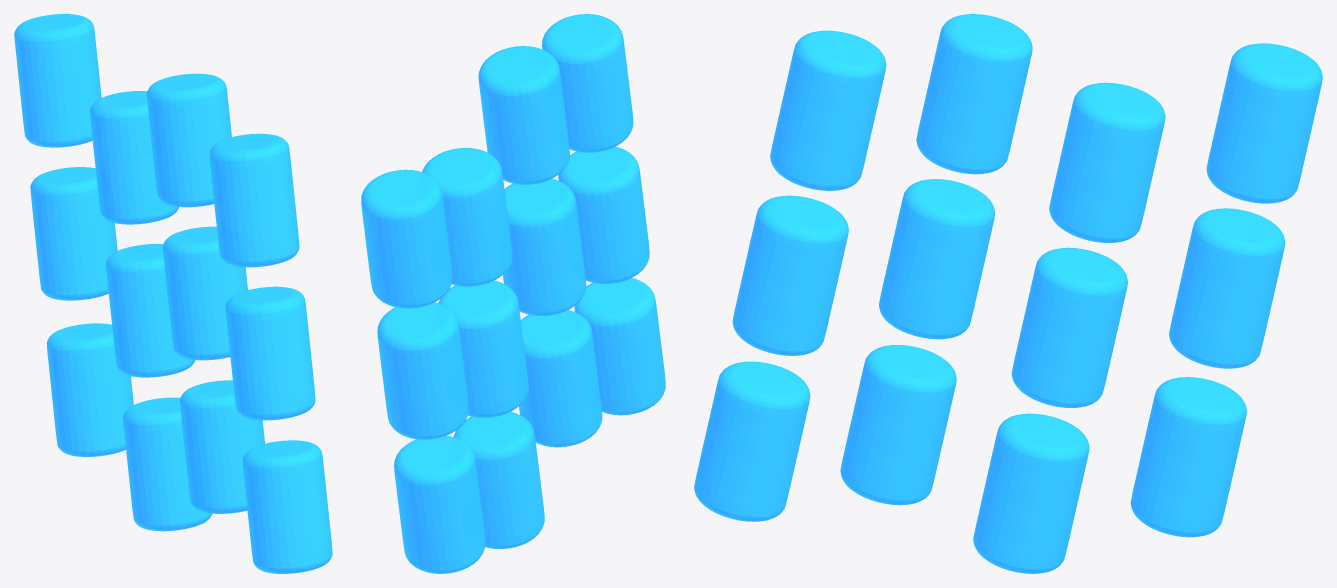
Rendered from rain.gltf.
3 views of the same model, side by side, from view 1: azimuth 30°, elevation 25°; view 2: azimuth 150°, elevation 25°; view 3: azimuth 270°, elevation 25° (orthographic). The views are drawn at different scales.
Parts seen in each view (by area): view 1: Cylinder.1022, Cylinder.1021, Cylinder.1019; view 2: Cylinder.1022, Cylinder.1021, Cylinder.1019; view 3: Cylinder.1022, Cylinder.1021, Cylinder.1019.
Part boxes in pixels (bbox=[...]): Cylinder.1022: bbox=[90, 73, 315, 420]; Cylinder.1021: bbox=[14, 14, 133, 456]; Cylinder.1019: bbox=[123, 380, 332, 573]; Cylinder.1022: bbox=[422, 14, 649, 417]; Cylinder.1021: bbox=[361, 169, 485, 573]; Cylinder.1019: bbox=[453, 278, 665, 549]; Cylinder.1022: bbox=[732, 14, 1165, 407]; Cylinder.1021: bbox=[1130, 43, 1322, 537]; Cylinder.1019: bbox=[694, 345, 1089, 573].
Size of the model in its own units: 0.5834 by 3.25 by 3.44.
